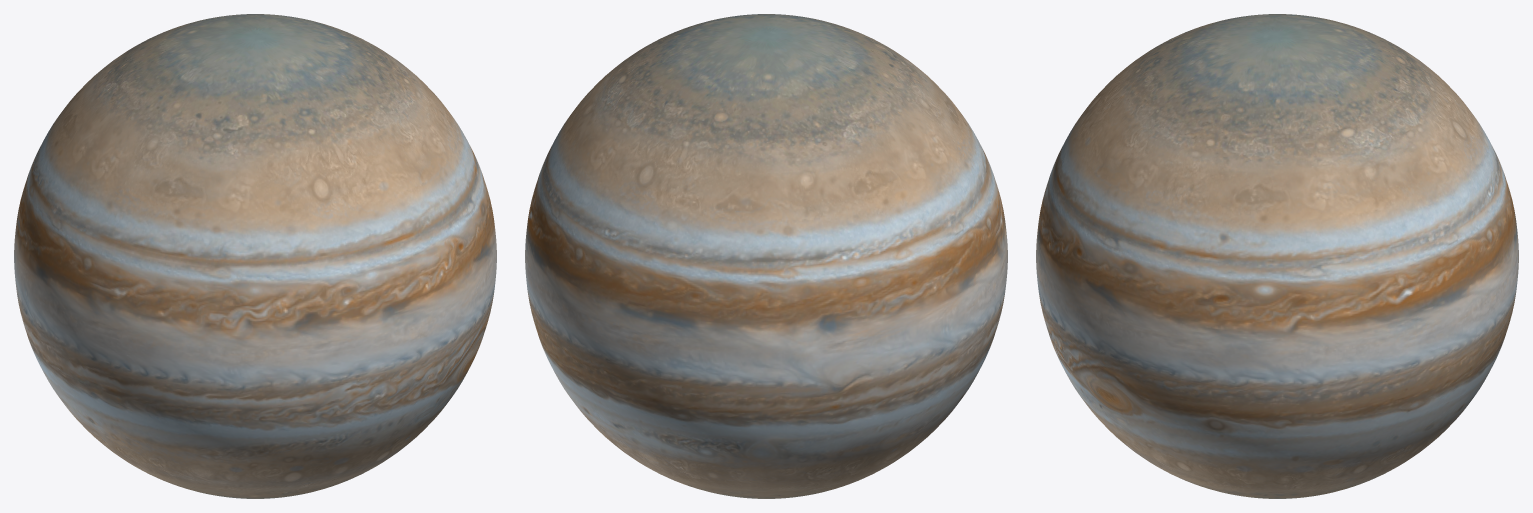
File: jupiter.glb
3 renders of one model, left to right at view 1: azimuth 30°, elevation 25°; view 2: azimuth 150°, elevation 25°; view 3: azimuth 270°, elevation 25°, orthographic.
Visible parts, largest first — view 1: Sphere_0; view 2: Sphere_0; view 3: Sphere_0.
Part boxes in pixels (left/top/right/bottom): Sphere_0: left=14, top=14, right=496, bottom=498; Sphere_0: left=525, top=14, right=1007, bottom=498; Sphere_0: left=1036, top=14, right=1518, bottom=498.
Size of the model in its own units: 1.99 by 2 by 1.99.
1 material, 1 textured.
